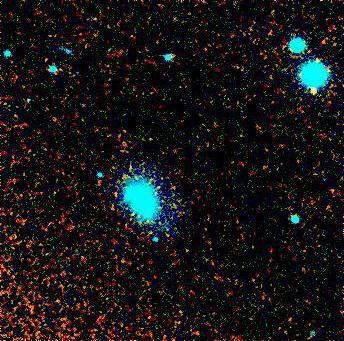star: (297, 77, 327, 107)
